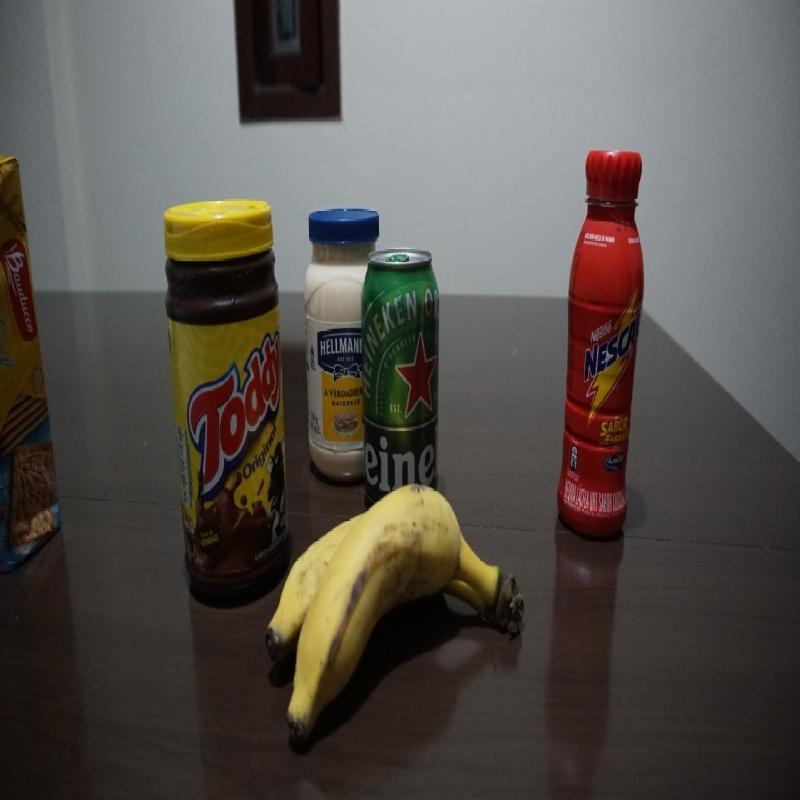Banana: (260, 483, 530, 754)
Beer can: (360, 245, 440, 503)
Chocolate Milk: (556, 147, 645, 542)
Chocolate Powder: (159, 195, 292, 606)
Cracker: (1, 142, 64, 578)
Mayonnaise: (303, 203, 382, 488)
